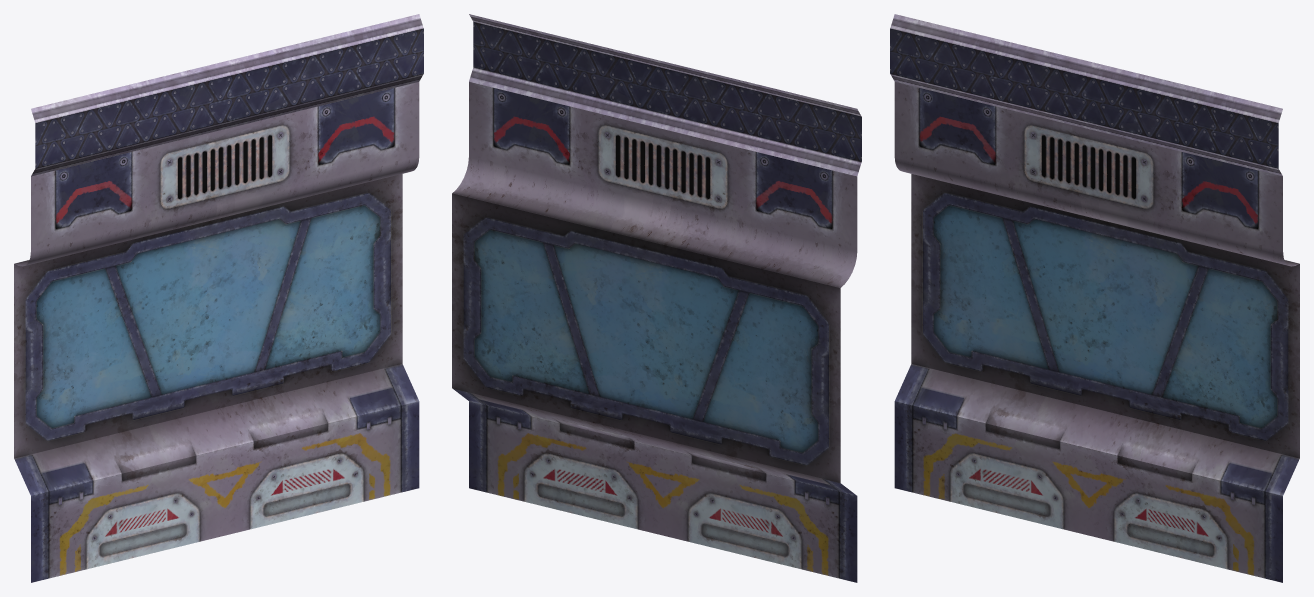
Rendered from SM_GlassPanel01_Alt.fbx.
3 renders of one model, left to right at view 1: azimuth 30°, elevation 25°; view 2: azimuth 150°, elevation 25°; view 3: azimuth 330°, elevation 25°, orthographic.
Visible parts, largest first — view 1: SM_GlassPanel01_Alt; view 2: SM_GlassPanel01_Alt; view 3: SM_GlassPanel01_Alt.
Part boxes in pixels (bbox=[...]): SM_GlassPanel01_Alt: bbox=[14, 14, 423, 582]; SM_GlassPanel01_Alt: bbox=[452, 14, 861, 582]; SM_GlassPanel01_Alt: bbox=[890, 14, 1299, 582].
Bounding box in the file's own units: 600 × 700 × 57.02.
